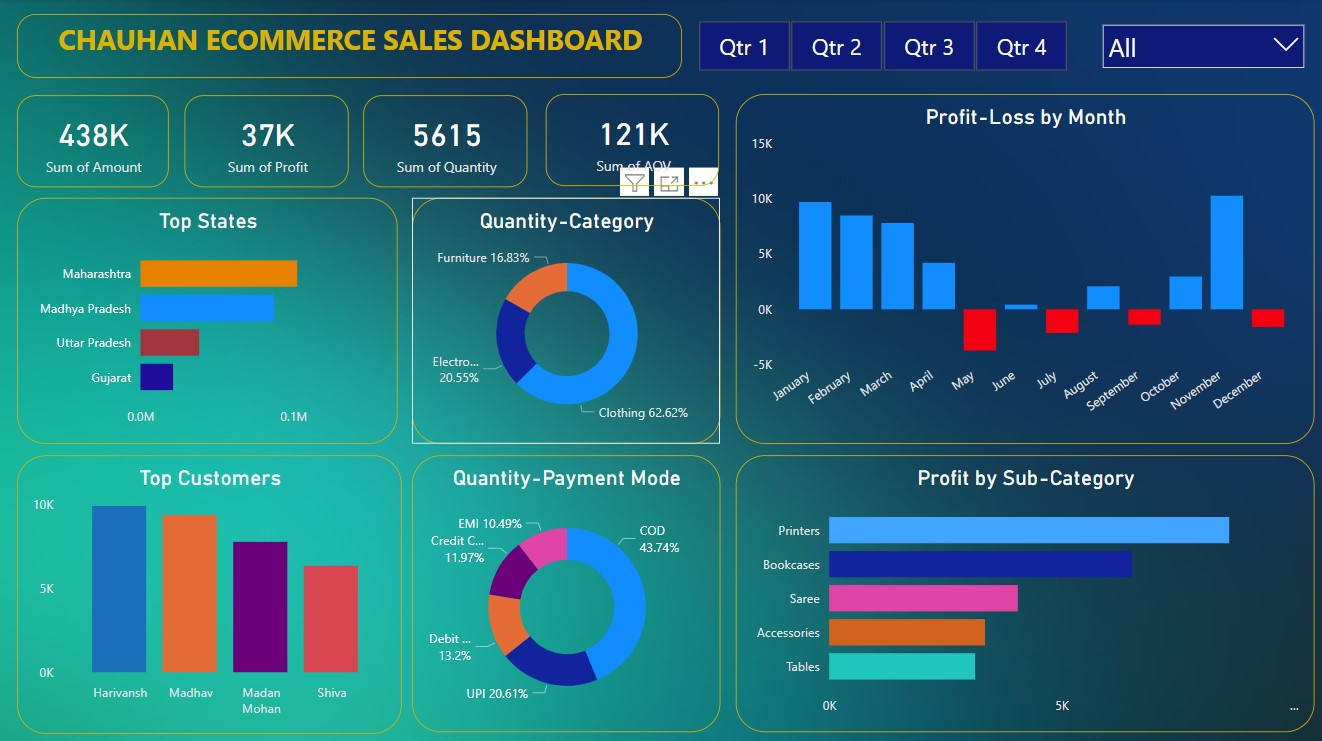

This screenshot's page, from the dashboard's own definition file:
{"tool":"powerbi","page":{"name":"Page 1","canvas":[1280,720],"ordinal":0},"visuals":[{"type":"clusteredColumnChart","title":"Profit-Loss by Month","fields":{"Y":["Details.Profit"],"Category":["Orders.Order Date.Variation.Date Hierarchy.Month"]},"box":[712.5,91.2,558.8,337.5],"z":0},{"type":"textbox","box":[18.8,15,641.2,61.2],"z":1000},{"type":"clusteredBarChart","title":"Profit by Sub-Category","fields":{"Category":["Details.Sub-Category"],"Y":["Details.Profit"]},"box":[712.5,440,558.8,267.5],"z":2000},{"type":"donutChart","title":"Quantity-Category","fields":{"Category":["Details.Category"],"Y":["Details.Quantity"]},"box":[400,191.2,297.5,237.5],"z":3000},{"type":"donutChart","title":"Quantity-Payment Mode","fields":{"Y":["Details.Quantity"],"Category":["Details.PaymentMode"]},"box":[400,440,297.5,267.5],"z":4000},{"type":"clusteredBarChart","title":"Top States","fields":{"Category":["Orders.State"],"Y":["Details.Amount"]},"box":[18.8,191.2,367.5,237.5],"z":5000},{"type":"clusteredColumnChart","title":"Top Customers","fields":{"Category":["Orders.CustomerName"],"Y":["Details.Amount"]},"box":[18.8,440,371.2,268.8],"z":6000},{"type":"card","fields":{"Values":["Details.Amount"]},"box":[18.8,92.5,146.2,88.8],"z":7000},{"type":"card","fields":{"Values":["Details.Profit"]},"box":[181.2,92.5,158.8,88.8],"z":8000},{"type":"card","fields":{"Values":["Details.Quantity"]},"box":[353.8,92.5,158.8,88.8],"z":9000},{"type":"card","fields":{"Values":["Details.AOV"]},"box":[530,91.2,167.5,88.8],"z":10000},{"type":"slicer","fields":{"Values":["Orders.Order Date.Variation.Date Hierarchy.Quarter"]},"box":[651.2,15,405,61.2],"z":11000},{"type":"slicer","fields":{"Values":["Orders.State"]},"box":[1056.2,15,215,61.2],"z":12000}]}

Visuals, with their boxes in screenshot pixels (x1, y1, x2, y2), scaled from the page's 1280x720 canvas onto the 1322x741 screenshot:
"Profit-Loss by Month" clusteredColumnChart: bbox=[736, 94, 1313, 441]
textbox: bbox=[19, 15, 682, 78]
"Profit by Sub-Category" clusteredBarChart: bbox=[736, 453, 1313, 728]
"Quantity-Category" donutChart: bbox=[413, 197, 720, 441]
"Quantity-Payment Mode" donutChart: bbox=[413, 453, 720, 728]
"Top States" clusteredBarChart: bbox=[19, 197, 399, 441]
"Top Customers" clusteredColumnChart: bbox=[19, 453, 403, 729]
card - Details.Amount: bbox=[19, 95, 170, 187]
card - Details.Profit: bbox=[187, 95, 351, 187]
card - Details.Quantity: bbox=[365, 95, 529, 187]
card - Details.AOV: bbox=[547, 94, 720, 185]
slicer - Orders.Order Date.Variation.Date Hierarchy.Quarter: bbox=[673, 15, 1091, 78]
slicer - Orders.State: bbox=[1091, 15, 1313, 78]
